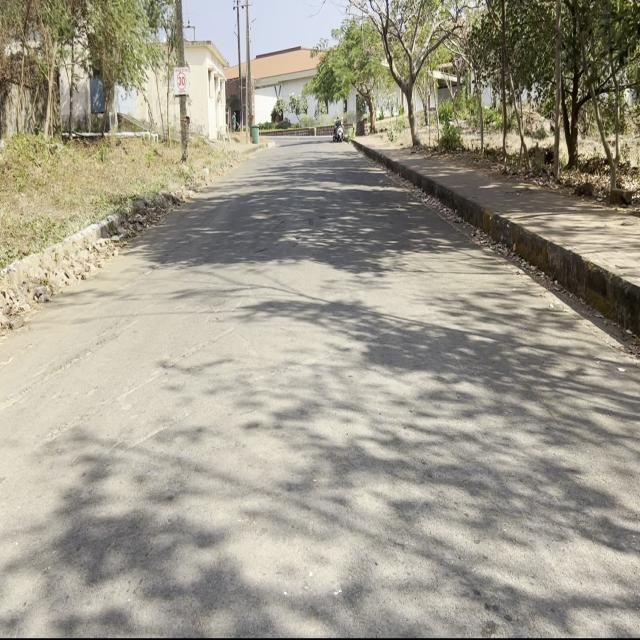Road: (7, 145, 637, 629)
